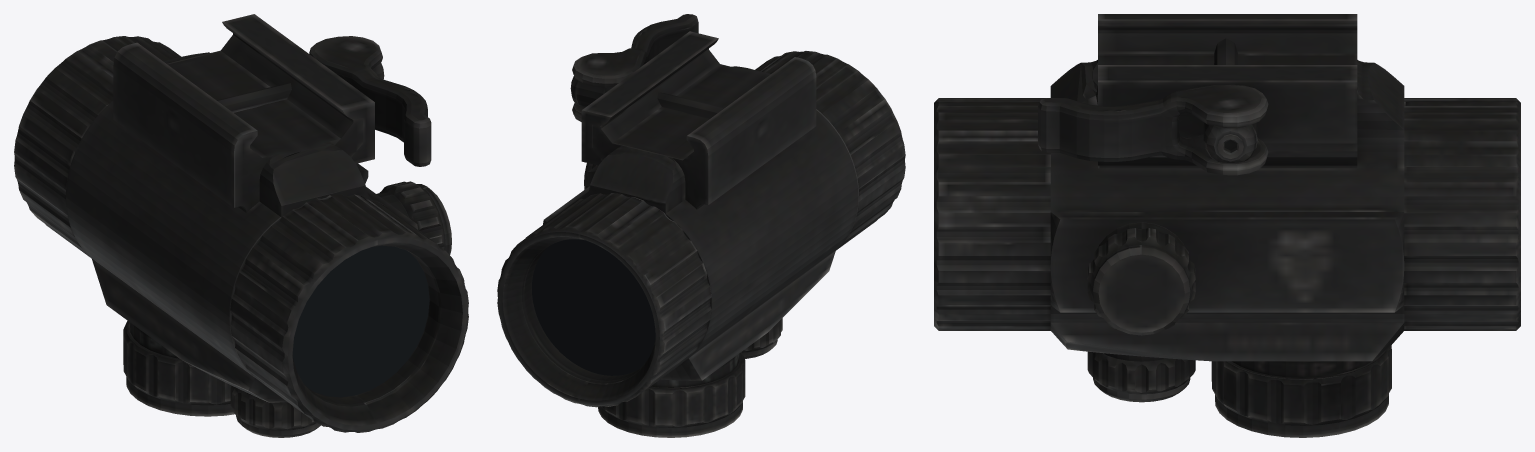
3 views of the same model, side by side, from view 1: azimuth 30°, elevation 25°; view 2: azimuth 150°, elevation 25°; view 3: azimuth 270°, elevation 25° (orthographic). The views are drawn at different scales.
Visible parts, largest first — view 1: TW_6165ac8c290d254f5e6b2f6c_mode1_PZ_Import; view 2: TW_6165ac8c290d254f5e6b2f6c_mode1_PZ_Import; view 3: TW_6165ac8c290d254f5e6b2f6c_mode1_PZ_Import.
Boxes of the visible parts, <box> form: TW_6165ac8c290d254f5e6b2f6c_mode1_PZ_Import: <box>14,14,468,437</box>; TW_6165ac8c290d254f5e6b2f6c_mode1_PZ_Import: <box>497,14,905,437</box>; TW_6165ac8c290d254f5e6b2f6c_mode1_PZ_Import: <box>934,14,1520,437</box>.
Size of the model in its own units: 0.0287 by 0.0554 by 0.0378.
Materials: 1 (1 with a texture image).
